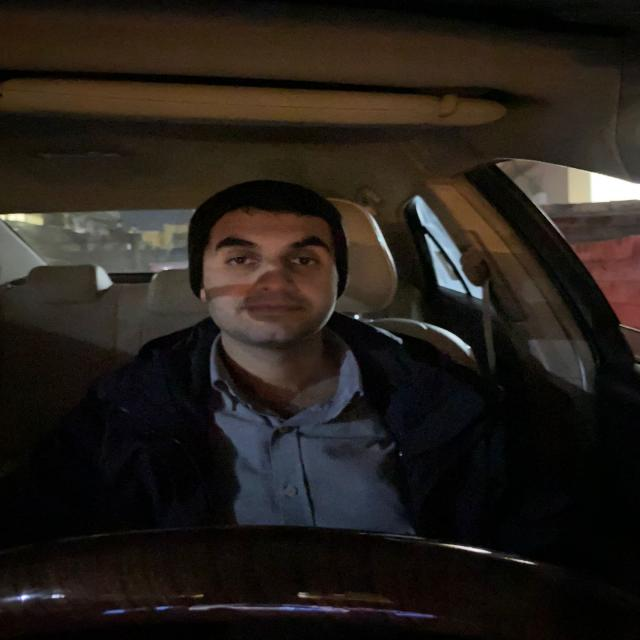person: (196, 194, 345, 342)
